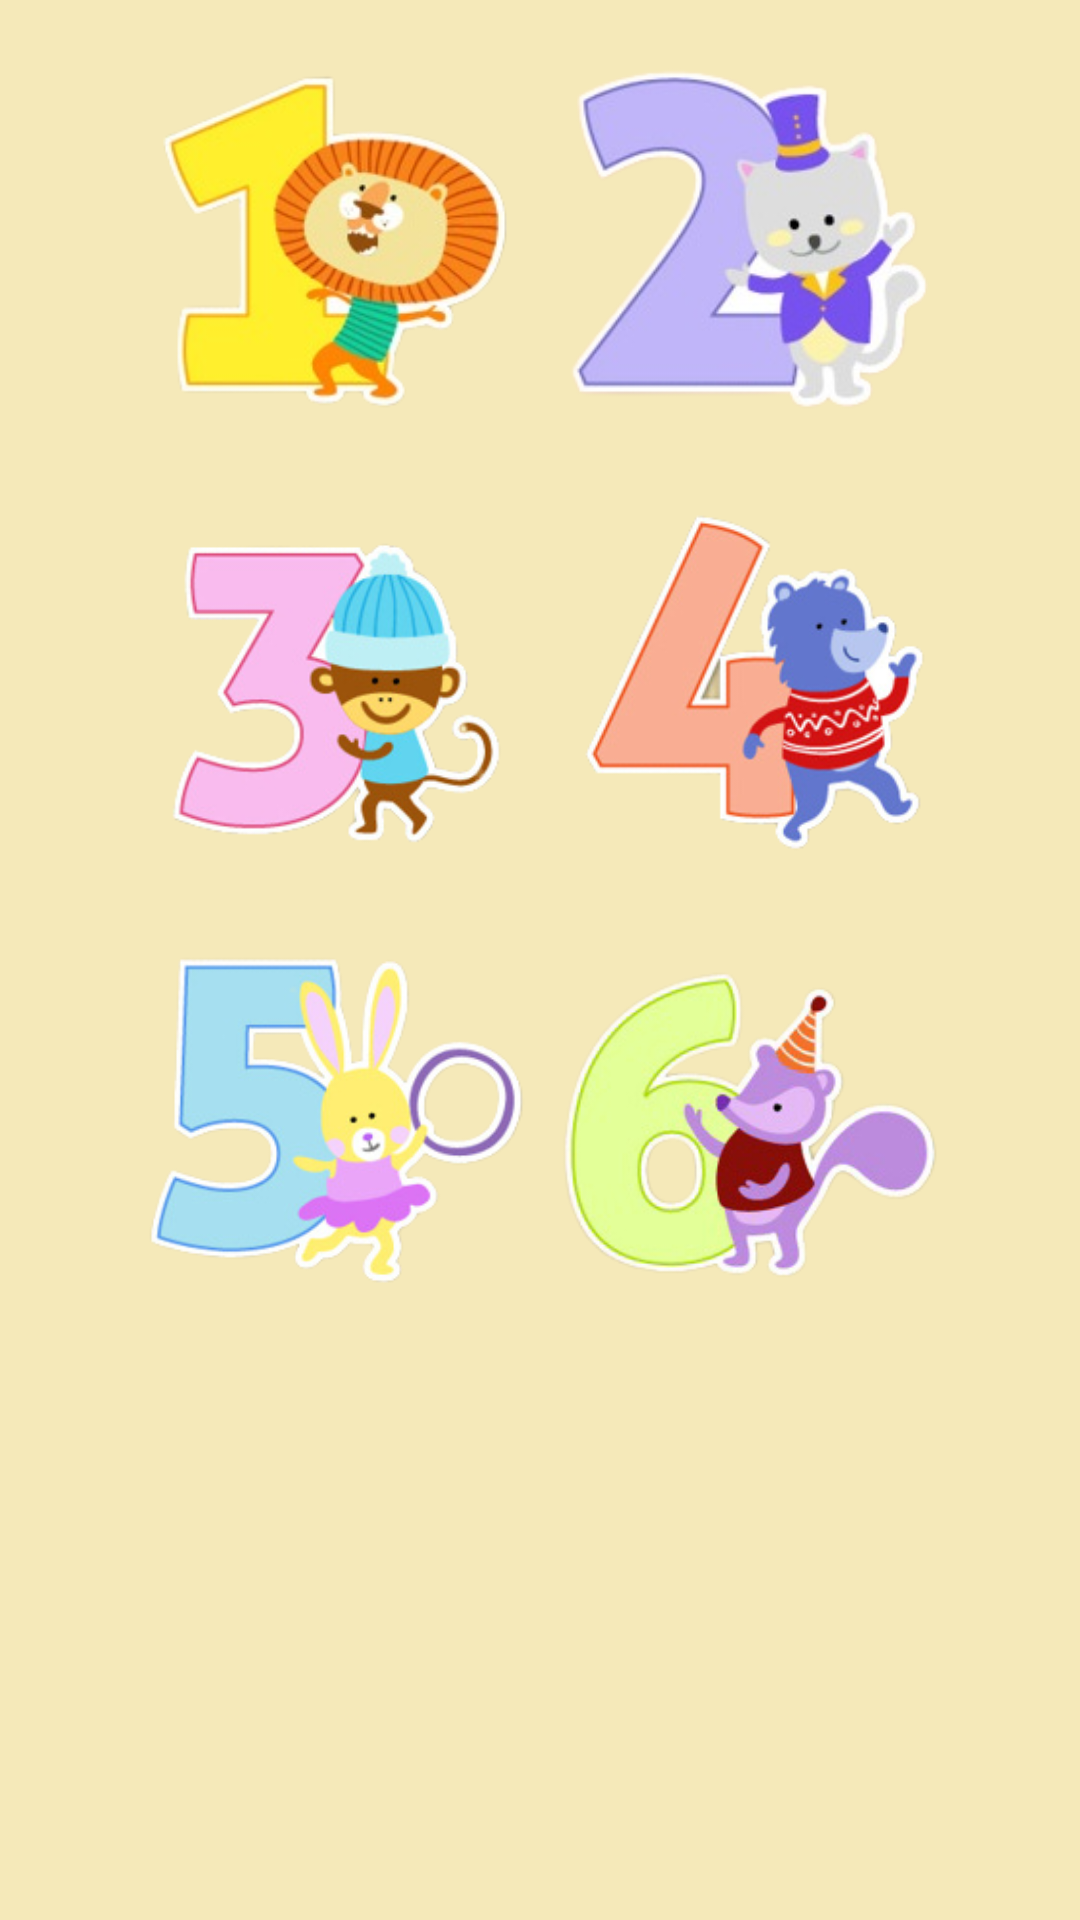

Named icons in this screenshot (1080 x 1920) and their centers, [x,y]:
dois: [749,239]
quatro: [754,682]
tres: [336,693]
